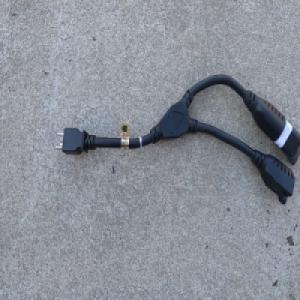Wire: (54, 73, 300, 205)
